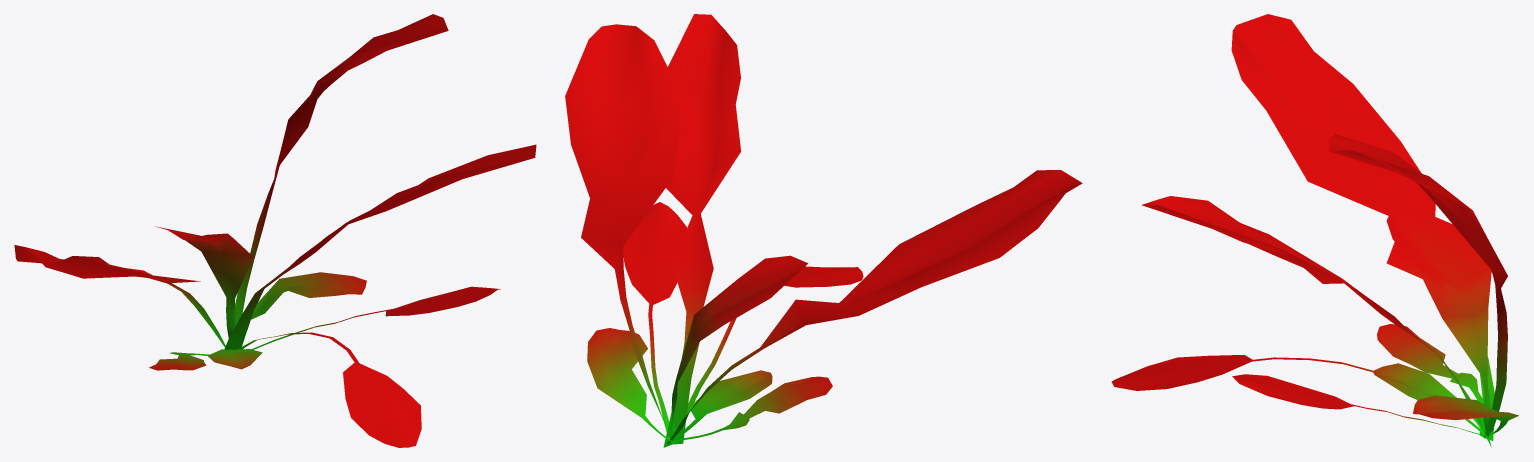
File: Var17_LOD0.fbx
The picture shows the model from 3 angles, left to right: view 1: azimuth 30°, elevation 25°; view 2: azimuth 150°, elevation 25°; view 3: azimuth 270°, elevation 25°; orthographic projection. The views are drawn at different scales.
Parts seen in each view (by area): view 1: _rg79_Var17_LOD0; view 2: _rg79_Var17_LOD0; view 3: _rg79_Var17_LOD0.
Part boxes in pixels (x1,y1,x2,y2): _rg79_Var17_LOD0: (14, 14, 536, 447); _rg79_Var17_LOD0: (565, 14, 1082, 447); _rg79_Var17_LOD0: (1111, 14, 1518, 447).
Size of the model in its own units: 23.41 by 17.47 by 17.73.
